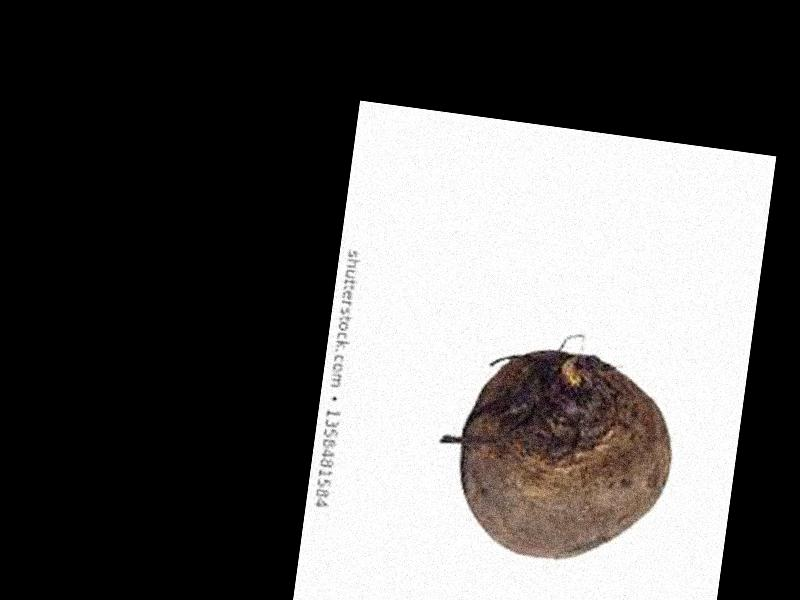Beet: (449, 342, 682, 575)
